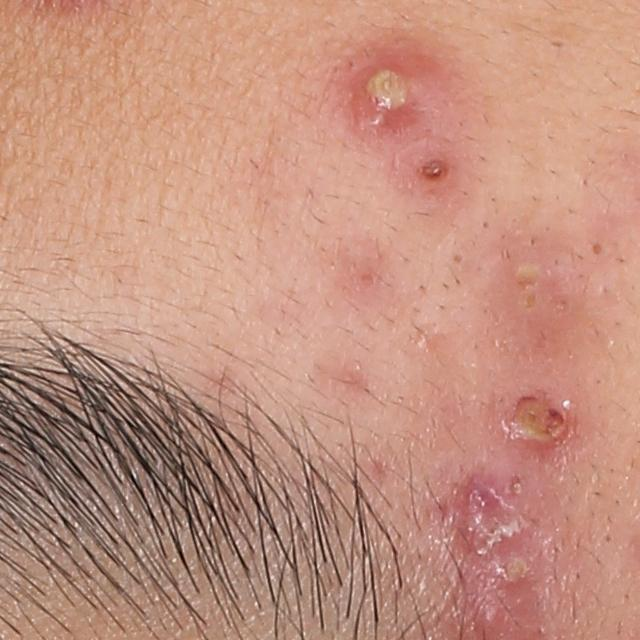comedo: (449, 247, 469, 270), (588, 238, 606, 259), (549, 34, 565, 52)
papule: (407, 150, 454, 192)
pustule: (346, 52, 440, 144), (491, 248, 570, 332), (495, 383, 579, 457), (487, 548, 535, 590)
